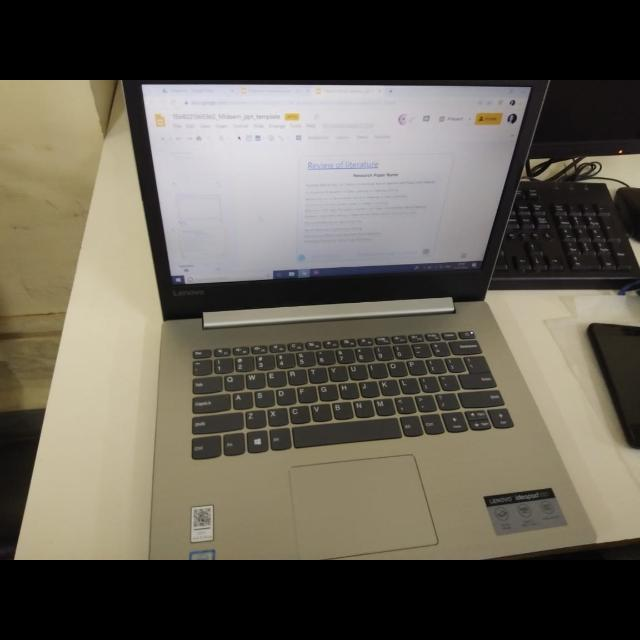Laptop: (108, 81, 610, 559)
